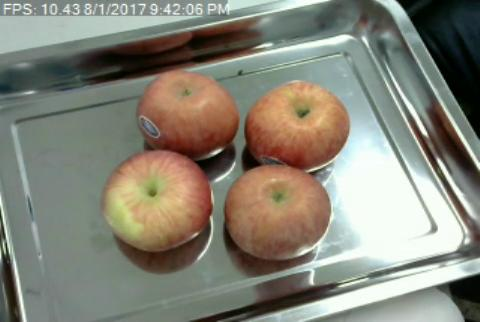apple: (101, 150, 212, 252), (226, 163, 332, 259), (244, 80, 351, 168), (135, 70, 236, 153)
